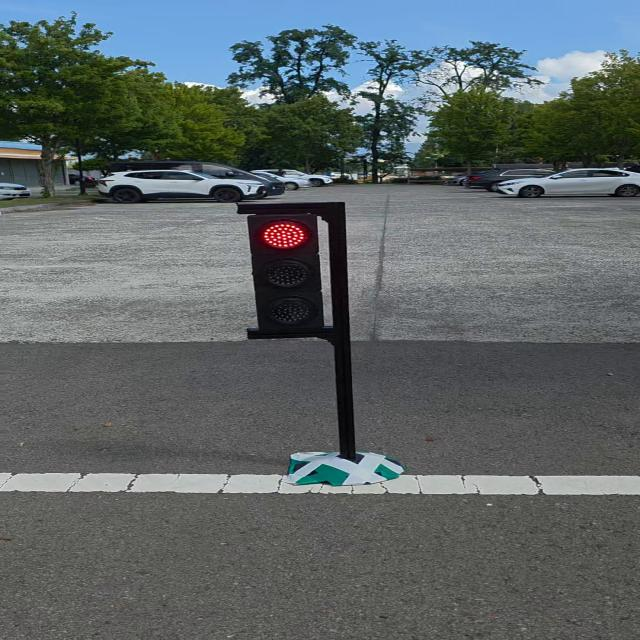red: (241, 205, 326, 337)
